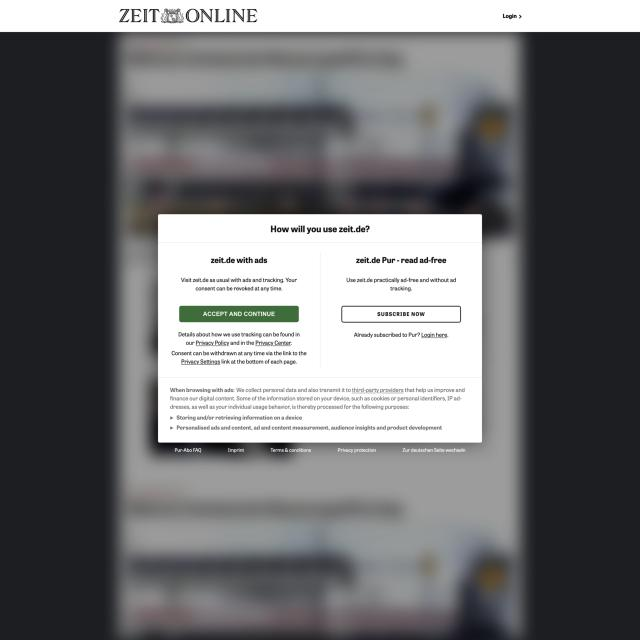logo: (118, 6, 258, 26)
